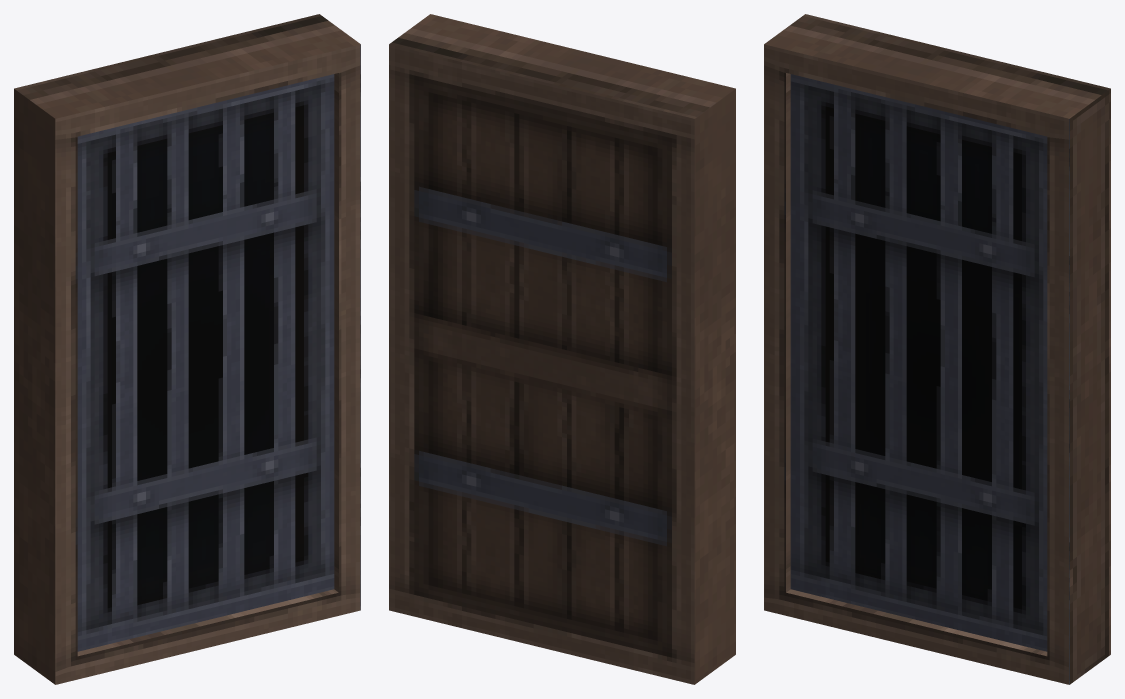
File: door_wood_metal_grate.glb
The picture shows the model from 3 angles, left to right: view 1: azimuth 30°, elevation 25°; view 2: azimuth 150°, elevation 25°; view 3: azimuth 330°, elevation 25°; orthographic projection.
Parts seen in each view (by area): view 1: door_wood_metal_grate; view 2: door_wood_metal_grate; view 3: door_wood_metal_grate.
Boxes of the visible parts, x1,y1,x2,y2 form: door_wood_metal_grate: [14, 14, 360, 684]; door_wood_metal_grate: [389, 14, 735, 684]; door_wood_metal_grate: [764, 14, 1110, 684].
Size of the model in its own units: 1.23 by 2.17 by 0.2885.
1 material, 1 textured.
